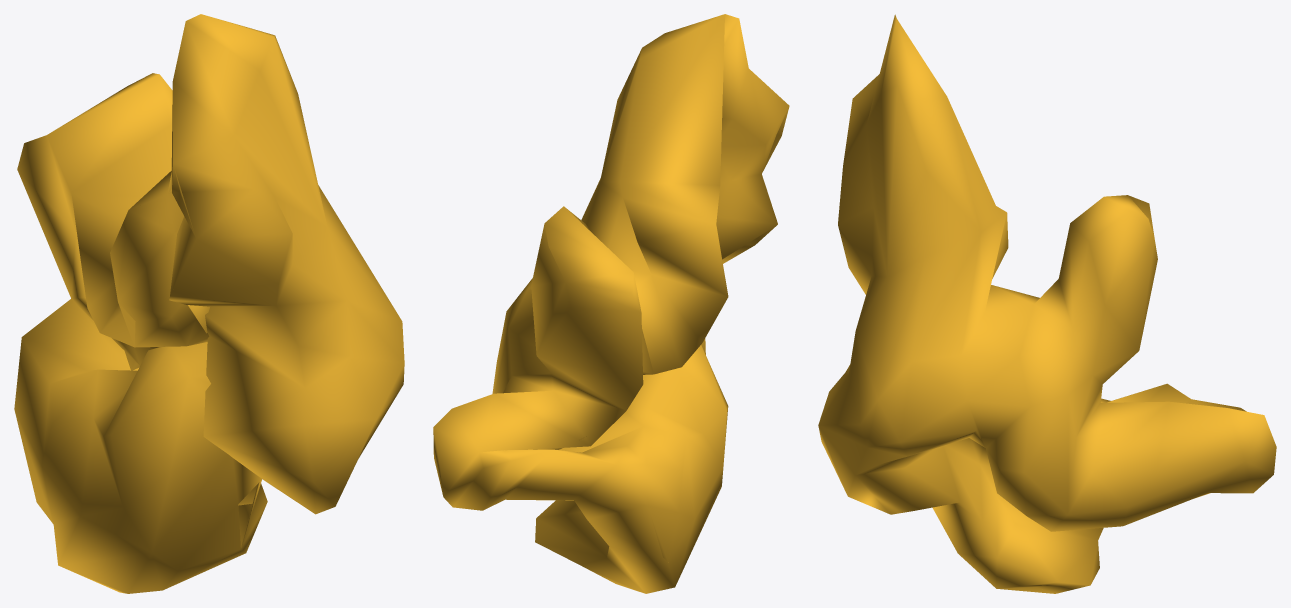
File: nervoso-subparietal-sulcus-l.glb
The picture shows the model from 3 angles, left to right: view 1: azimuth 30°, elevation 25°; view 2: azimuth 150°, elevation 25°; view 3: azimuth 270°, elevation 25°; orthographic projection. The views are drawn at different scales.
Visible parts, largest first — view 1: Subparietal sulcus.l; view 2: Subparietal sulcus.l; view 3: Subparietal sulcus.l.
Part boxes in pixels (x1,y1,x2,y2): Subparietal sulcus.l: (14, 14, 404, 593); Subparietal sulcus.l: (433, 14, 789, 593); Subparietal sulcus.l: (818, 14, 1276, 593).
Bounding box in the file's own units: 0.0151 × 0.0358 × 0.0266.
